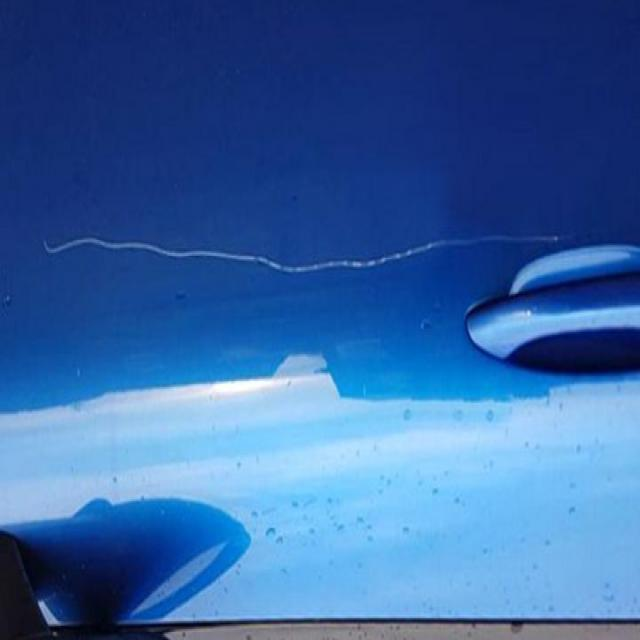scratch: (33, 226, 580, 291)
